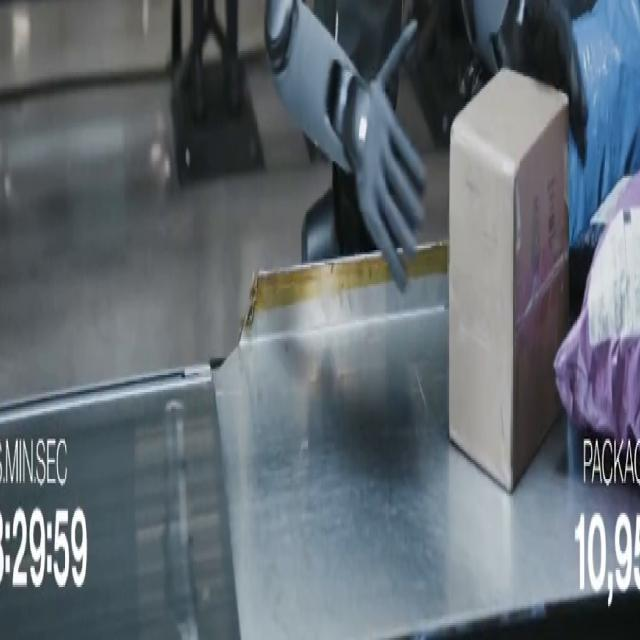package: (449, 70, 568, 491), (555, 176, 639, 442), (569, 0, 639, 245)
